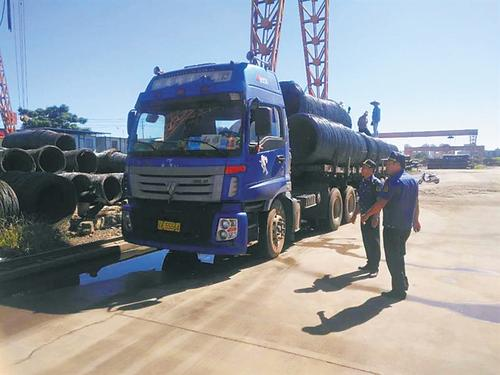chaozhai: (116, 60, 421, 250)
